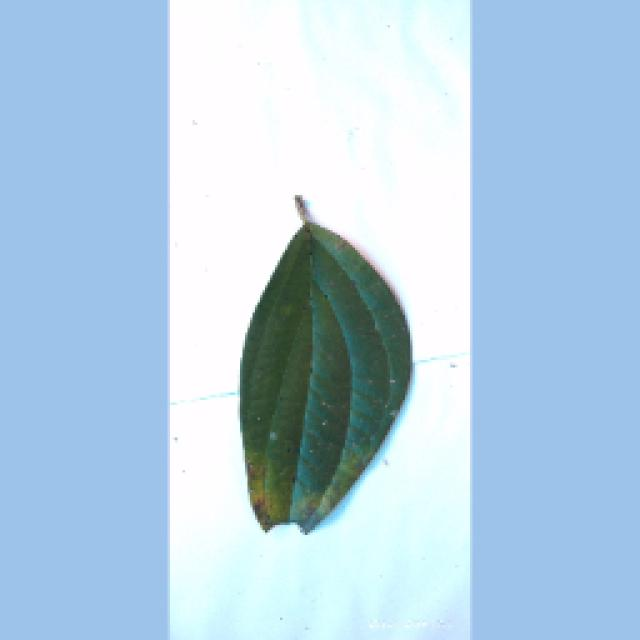slow-decline: (233, 198, 415, 540)
